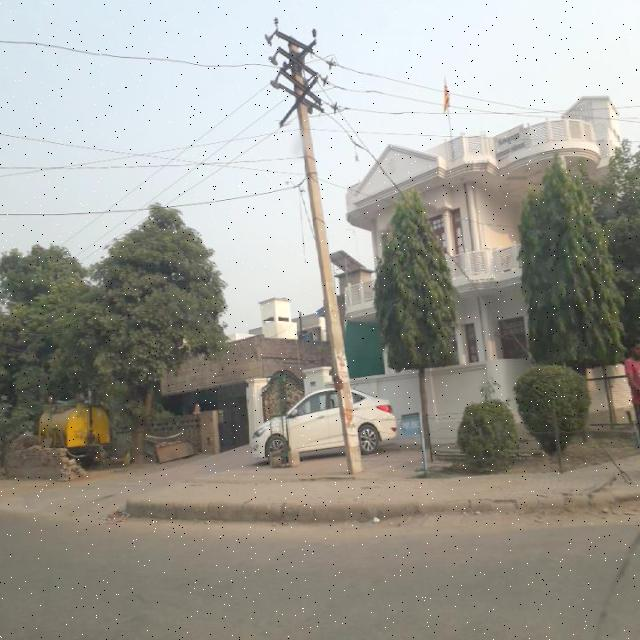D40: (88, 580, 162, 634)
